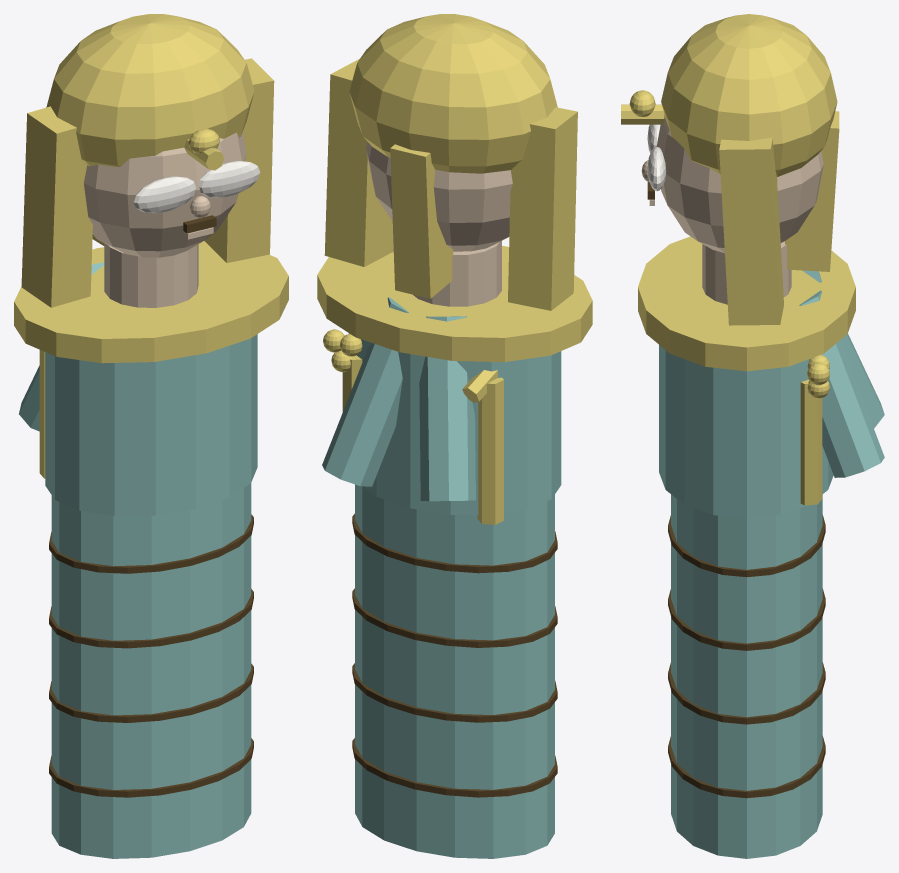
The model's file is CHAR_Nebu.fbx.
The picture shows the model from 3 angles, left to right: view 1: azimuth 30°, elevation 25°; view 2: azimuth 150°, elevation 25°; view 3: azimuth 270°, elevation 25°; orthographic projection.
Visible parts, largest first — view 1: Lower, Chest, NemesCrown, CollarOuter, LappetL, Head, LappetR, Neck, GlyphLine2, GlyphLine3, GlyphLine1, GlyphLine0 (+6 smaller); view 2: Lower, NemesCrown, CollarOuter, Chest, LappetL, LappetR, ArmL, NemesBack, ArmR, Head, CrookV, Neck (+6 smaller); view 3: Lower, Chest, NemesCrown, CollarOuter, LappetR, Head, ArmR, NemesBack, FlailH, Neck, GlyphLine0, GlyphLine2 (+6 smaller).
Boxes of the visible parts, x1=… form: Lower: x1=51, y1=483, x2=251, y2=858; Chest: x1=45, y1=334, x2=257, y2=515; NemesCrown: x1=46, y1=14, x2=254, y2=166; CollarOuter: x1=14, y1=241, x2=288, y2=363; LappetL: x1=21, y1=106, x2=92, y2=307; Head: x1=83, y1=132, x2=246, y2=257; LappetR: x1=204, y1=58, x2=274, y2=262; Neck: x1=104, y1=243, x2=198, y2=307; GlyphLine2: x1=49, y1=589, x2=253, y2=648; GlyphLine3: x1=49, y1=514, x2=253, y2=573; GlyphLine1: x1=49, y1=663, x2=253, y2=722; GlyphLine0: x1=49, y1=738, x2=253, y2=797; Lower: x1=355, y1=484, x2=554, y2=858; NemesCrown: x1=349, y1=14, x2=557, y2=173; CollarOuter: x1=317, y1=245, x2=592, y2=362; Chest: x1=348, y1=333, x2=561, y2=515; LappetL: x1=508, y1=107, x2=577, y2=310; LappetR: x1=324, y1=58, x2=393, y2=266; ArmL: x1=419, y1=316, x2=475, y2=501; NemesBack: x1=390, y1=144, x2=453, y2=298; ArmR: x1=322, y1=297, x2=408, y2=486; Head: x1=366, y1=142, x2=512, y2=251; CrookV: x1=477, y1=377, x2=503, y2=524; Neck: x1=413, y1=241, x2=501, y2=306; Lower: x1=671, y1=494, x2=822, y2=858; Chest: x1=659, y1=345, x2=833, y2=518; NemesCrown: x1=661, y1=14, x2=837, y2=176; CollarOuter: x1=638, y1=236, x2=855, y2=371; LappetR: x1=719, y1=137, x2=783, y2=325; Head: x1=656, y1=116, x2=823, y2=253; ArmR: x1=799, y1=290, x2=884, y2=477; NemesBack: x1=785, y1=111, x2=839, y2=271; FlailH: x1=800, y1=379, x2=822, y2=505; Neck: x1=702, y1=241, x2=791, y2=304; GlyphLine0: x1=668, y1=736, x2=825, y2=798; GlyphLine2: x1=668, y1=588, x2=825, y2=650.
Size of the model in its own units: 60 by 182 by 55.15.
